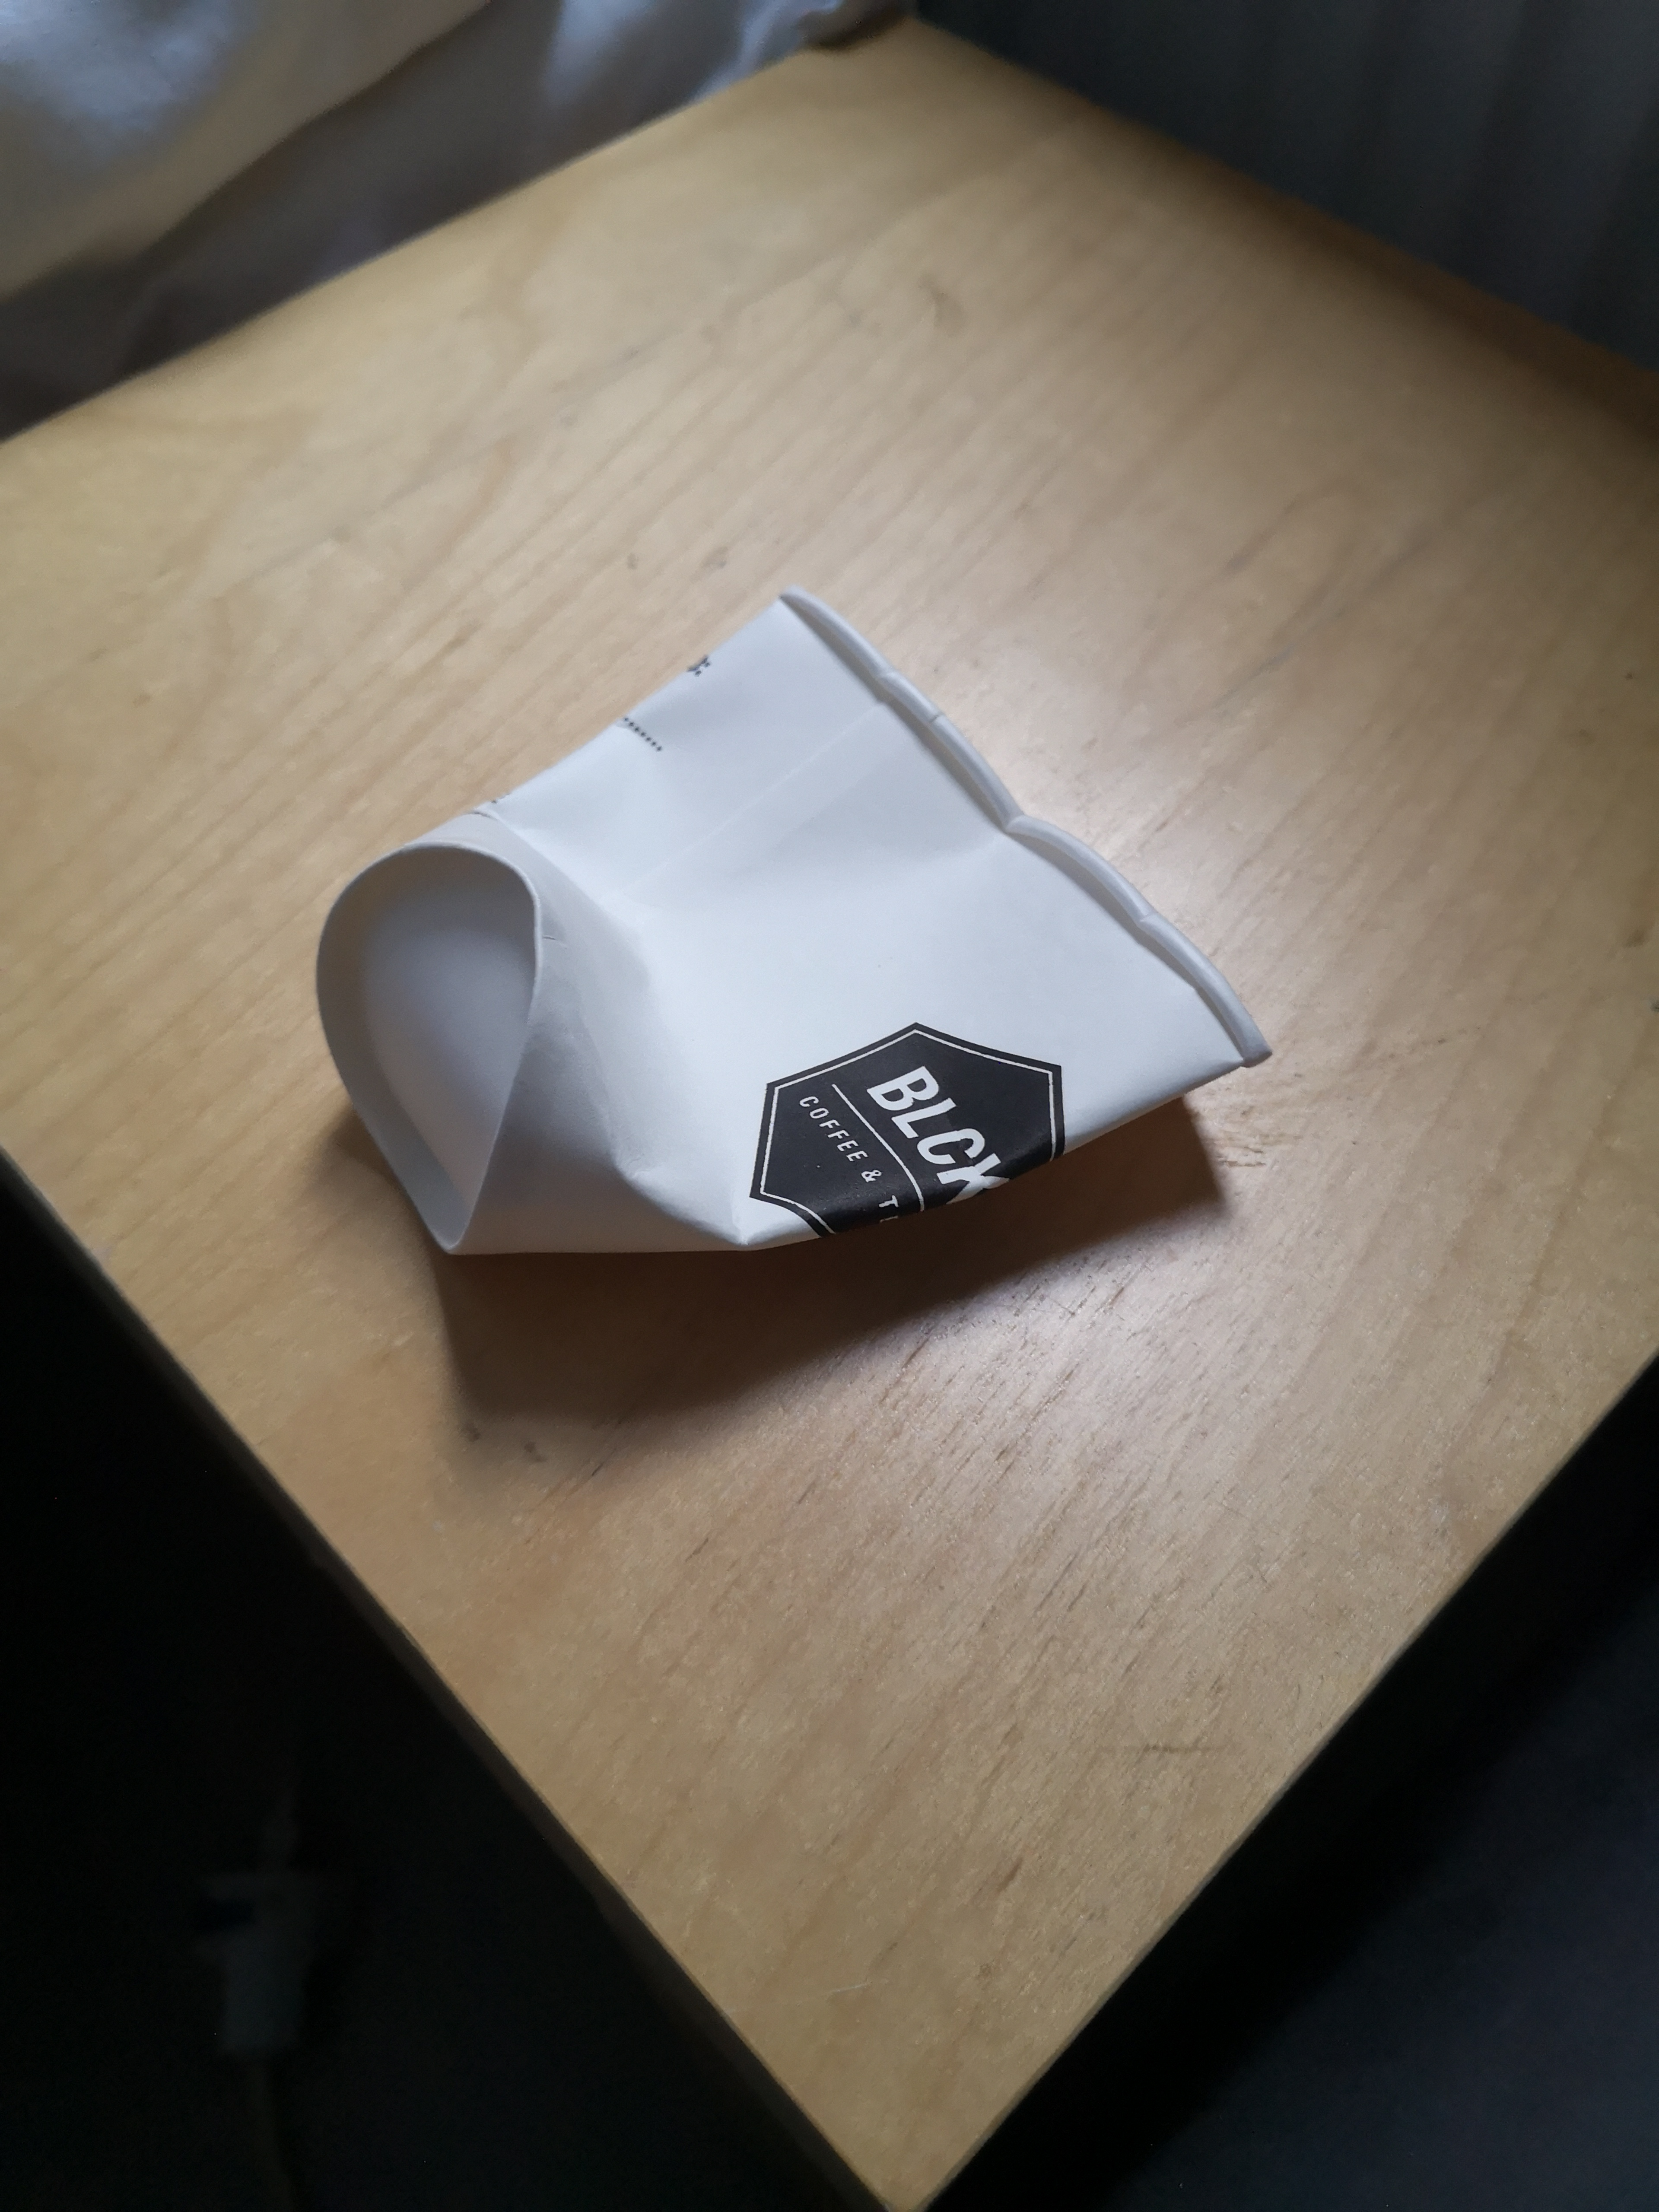cup: (298, 571, 1283, 1336)
